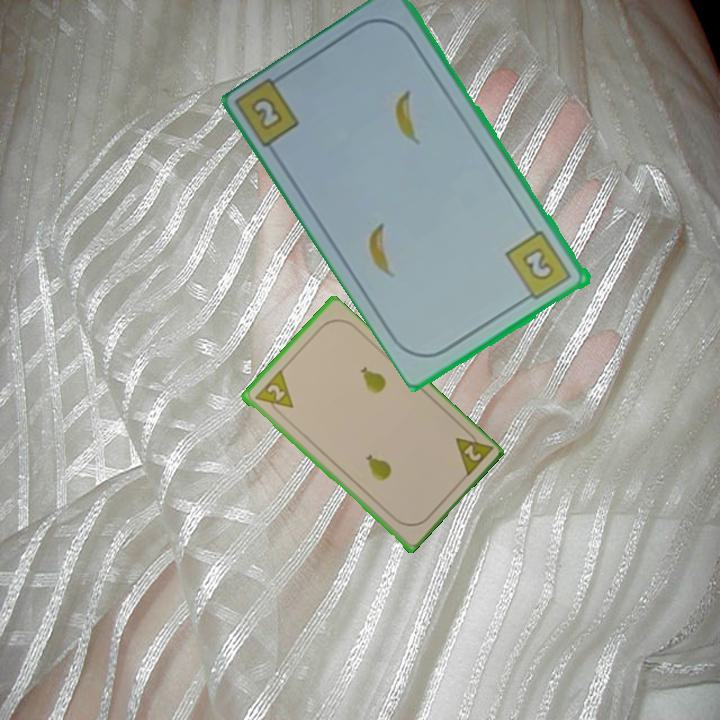2b: (502, 227, 575, 305), (246, 93, 287, 134)
2p: (451, 424, 495, 481), (251, 367, 296, 419)
